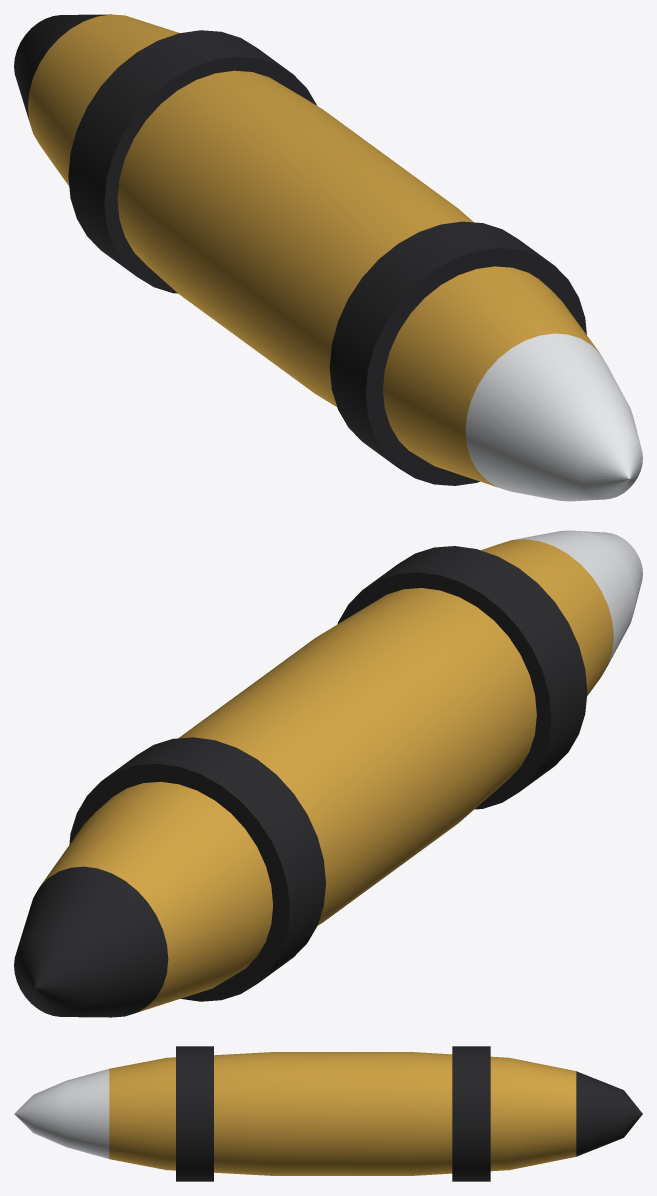
Rendered from rd1_body.obj.
The picture shows the model from 3 angles, top to bottom: view 1: azimuth 30°, elevation 25°; view 2: azimuth 150°, elevation 25°; view 3: azimuth 270°, elevation 25°; orthographic projection. The views are drawn at different scales.
Visible parts, largest first — view 1: rd1_body; view 2: rd1_body; view 3: rd1_body.
Boxes of the visible parts, x1=… form: rd1_body: x1=14, y1=14, x2=642, y2=501; rd1_body: x1=14, y1=530, x2=642, y2=1017; rd1_body: x1=14, y1=1046, x2=642, y2=1181.
Size of the model in its own units: 0.284 by 0.284 by 1.32.
